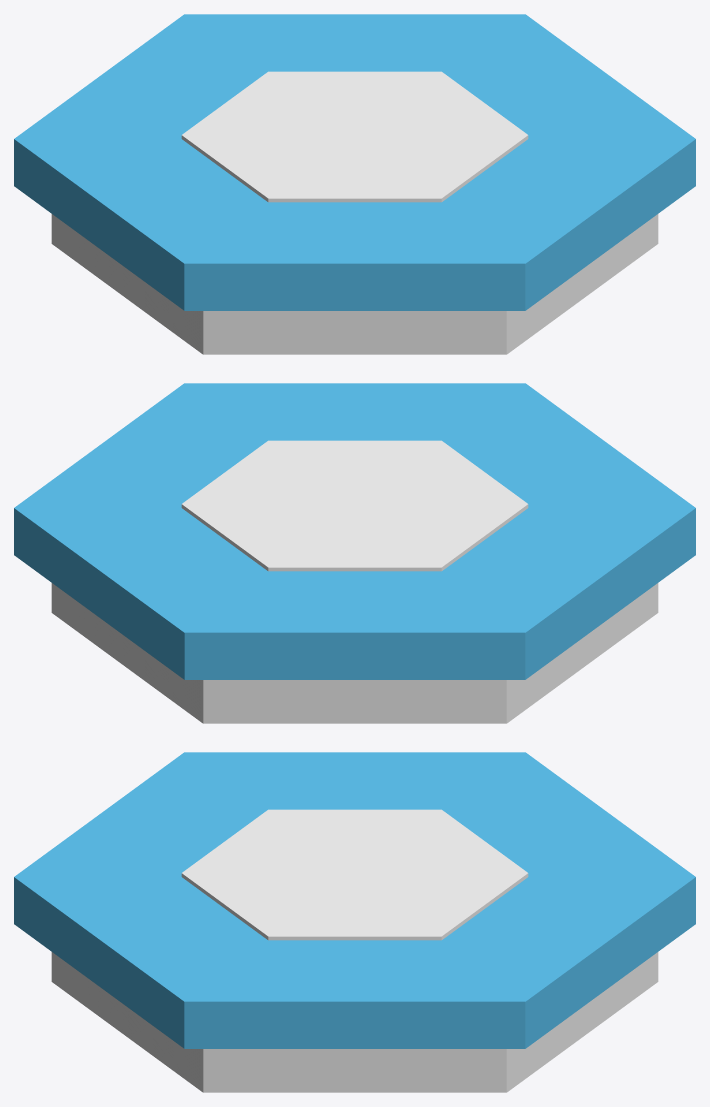
Rendered from tile_hex.glb.
3 views of the same model, one above another, from view 1: azimuth 30°, elevation 25°; view 2: azimuth 150°, elevation 25°; view 3: azimuth 270°, elevation 25° (orthographic).
Parts seen in each view (by area): view 1: tile_hex; view 2: tile_hex; view 3: tile_hex.
Boxes of the visible parts, left/top/right/bottom form: tile_hex: left=14, top=14, right=695, bottom=354; tile_hex: left=14, top=383, right=695, bottom=723; tile_hex: left=14, top=752, right=695, bottom=1092.
Bounding box in the file's own units: 2.04 × 0.415 × 2.36.
